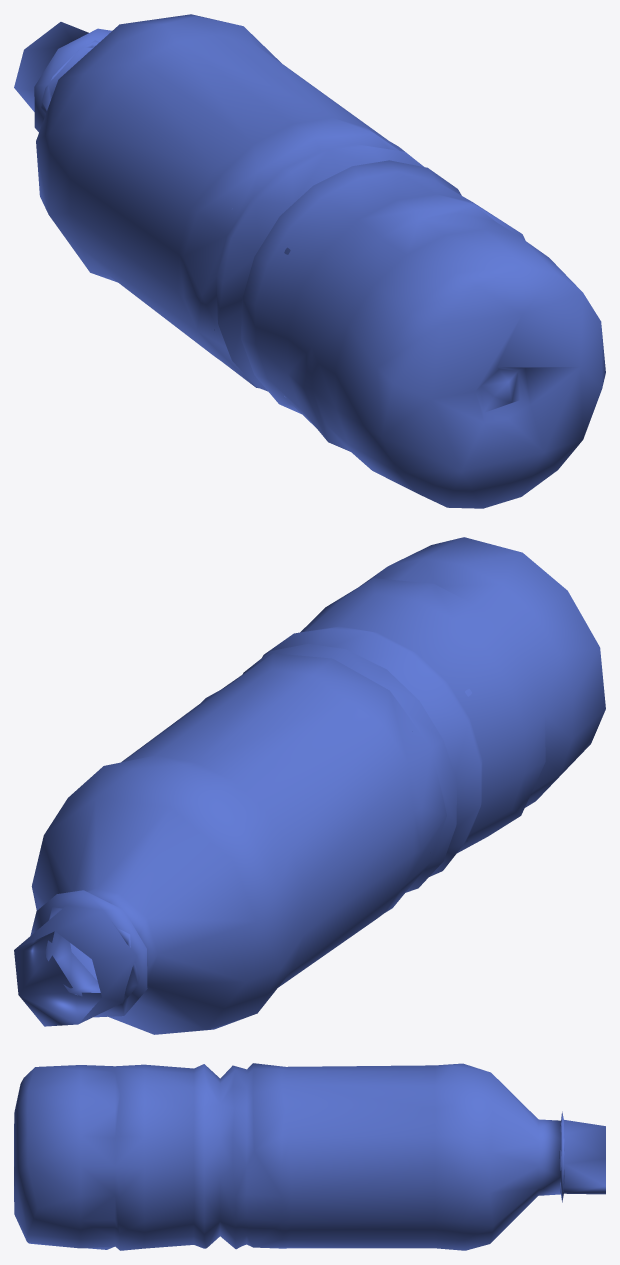
Rendered from VIS_Obt_8_Bottle.dae.
The picture shows the model from 3 angles, top to bottom: view 1: azimuth 30°, elevation 25°; view 2: azimuth 150°, elevation 25°; view 3: azimuth 270°, elevation 25°; orthographic projection. The views are drawn at different scales.
Visible parts, largest first — view 1: VIS_Obt_8_Bottle; view 2: VIS_Obt_8_Bottle; view 3: VIS_Obt_8_Bottle.
Boxes of the visible parts, x1,y1,x2,y2 form: VIS_Obt_8_Bottle: [14, 14, 605, 508]; VIS_Obt_8_Bottle: [14, 537, 605, 1034]; VIS_Obt_8_Bottle: [14, 1063, 605, 1250].
Bounding box in the file's own units: 0.6216 × 1.95 × 0.6364.
